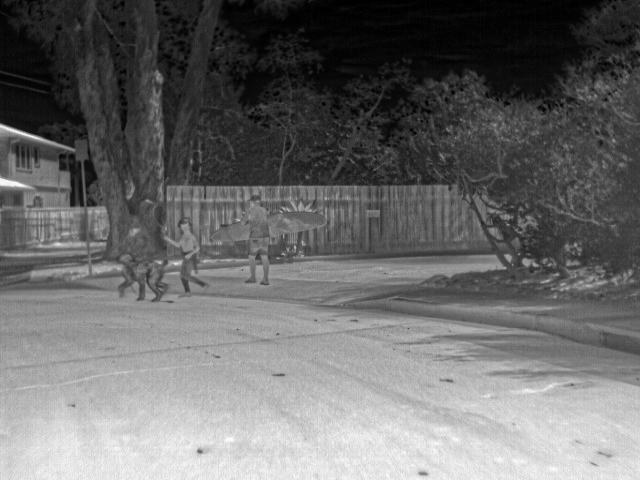dog: (112, 254, 168, 303)
person: (170, 216, 209, 298), (242, 194, 271, 286)
